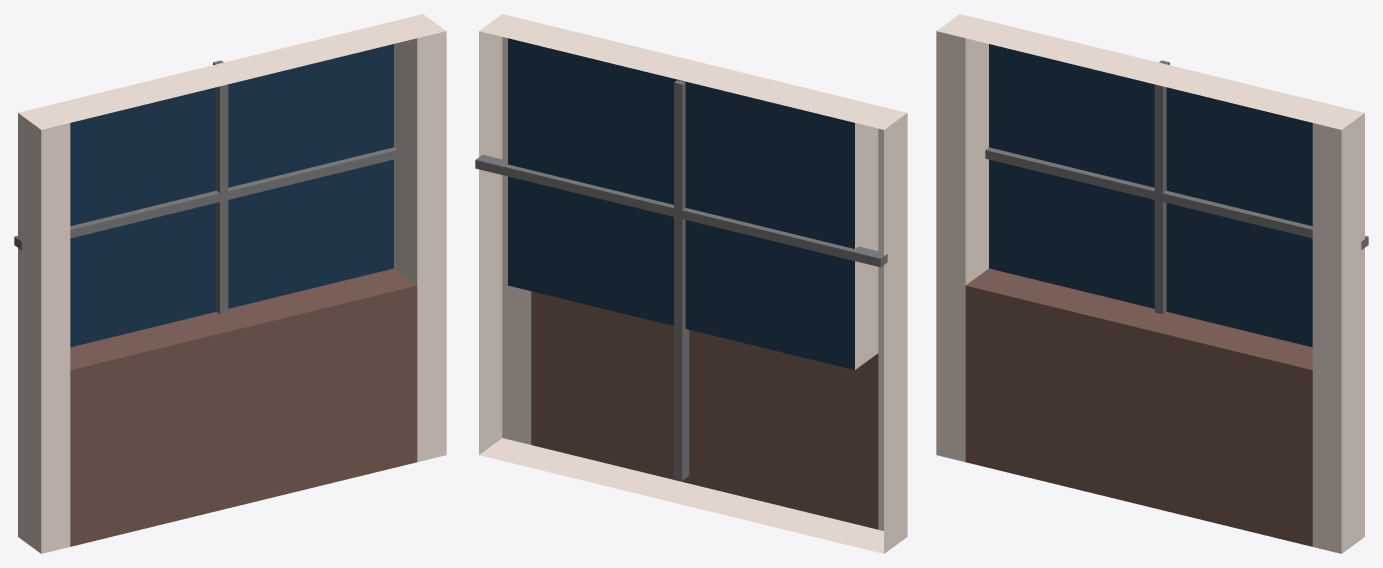
Rendered from mid-w1.fbx.
3 renders of one model, left to right at view 1: azimuth 30°, elevation 25°; view 2: azimuth 150°, elevation 25°; view 3: azimuth 330°, elevation 25°, orthographic.
Visible parts, largest first — view 1: mid-w1; view 2: mid-w1; view 3: mid-w1.
Part boxes in pixels (x1,y1,x2,y2): mid-w1: [14, 14, 446, 553]; mid-w1: [475, 14, 907, 553]; mid-w1: [936, 14, 1368, 553].
Bounding box in the file's own units: 3 × 3 × 0.3446.
